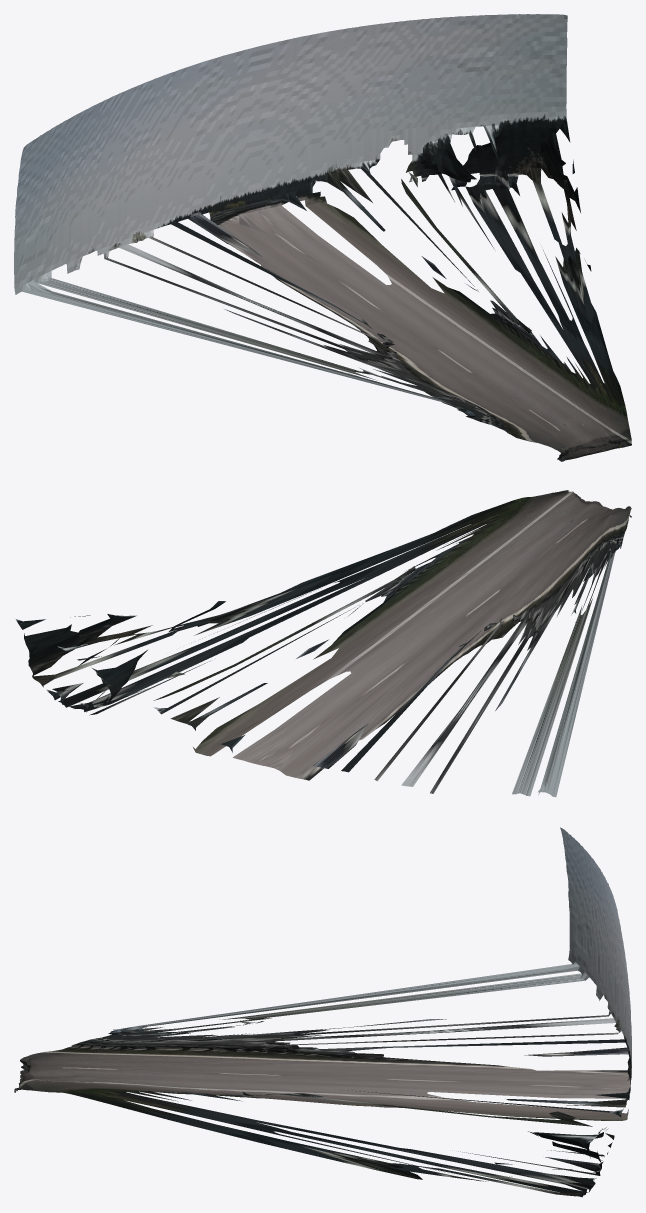
3 renders of one model, top to bottom at view 1: azimuth 30°, elevation 25°; view 2: azimuth 150°, elevation 25°; view 3: azimuth 270°, elevation 25°, orthographic. The views are drawn at different scales.
Parts seen in each view (by area): view 1: defaultobject; view 2: defaultobject; view 3: defaultobject.
Part boxes in pixels (box(x1,y1,x2,y2)): defaultobject: box(14, 14, 631, 461); defaultobject: box(15, 490, 631, 797); defaultobject: box(14, 827, 631, 1197).
Bounding box in the file's own units: 41.14 × 13 × 44.5.
1 material, 1 textured.
